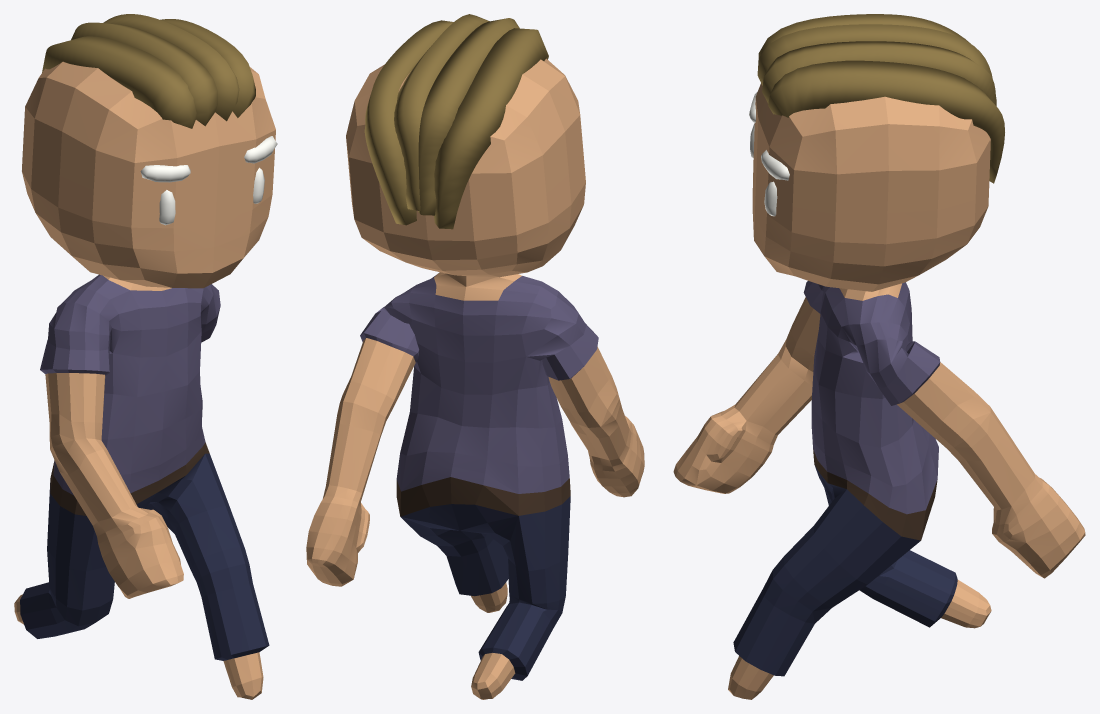
Rendered from marche-homme.glb.
The picture shows the model from 3 angles, left to right: view 1: azimuth 30°, elevation 25°; view 2: azimuth 150°, elevation 25°; view 3: azimuth 270°, elevation 25°; orthographic projection. The views are drawn at different scales.
Visible parts, largest first — view 1: Cube004, Cube004_1, Cube004_2, Cube004_5, Cube004_4, Cube004_3; view 2: Cube004, Cube004_1, Cube004_5, Cube004_2, Cube004_3; view 3: Cube004, Cube004_1, Cube004_5, Cube004_2, Cube004_3, Cube004_4.
Boxes of the visible parts, x1=… form: Cube004: x1=14, y1=61, x2=275, y2=699; Cube004_1: x1=40, y1=274, x2=220, y2=495; Cube004_2: x1=20, y1=453, x2=269, y2=660; Cube004_5: x1=42, y1=14, x2=255, y2=128; Cube004_4: x1=140, y1=136, x2=277, y2=225; Cube004_3: x1=50, y1=442, x2=209, y2=515; Cube004: x1=306, y1=58, x2=644, y2=699; Cube004_1: x1=360, y1=275, x2=598, y2=493; Cube004_5: x1=364, y1=14, x2=548, y2=229; Cube004_2: x1=401, y1=496, x2=570, y2=680; Cube004_3: x1=396, y1=477, x2=570, y2=516; Cube004: x1=673, y1=83, x2=1085, y2=699; Cube004_1: x1=803, y1=281, x2=940, y2=514; Cube004_5: x1=757, y1=14, x2=1004, y2=183; Cube004_2: x1=733, y1=466, x2=957, y2=676; Cube004_3: x1=813, y1=449, x2=937, y2=540; Cube004_4: x1=749, y1=92, x2=789, y2=216.
Size of the model in its own units: 0.6245 by 1.69 by 0.9682.
